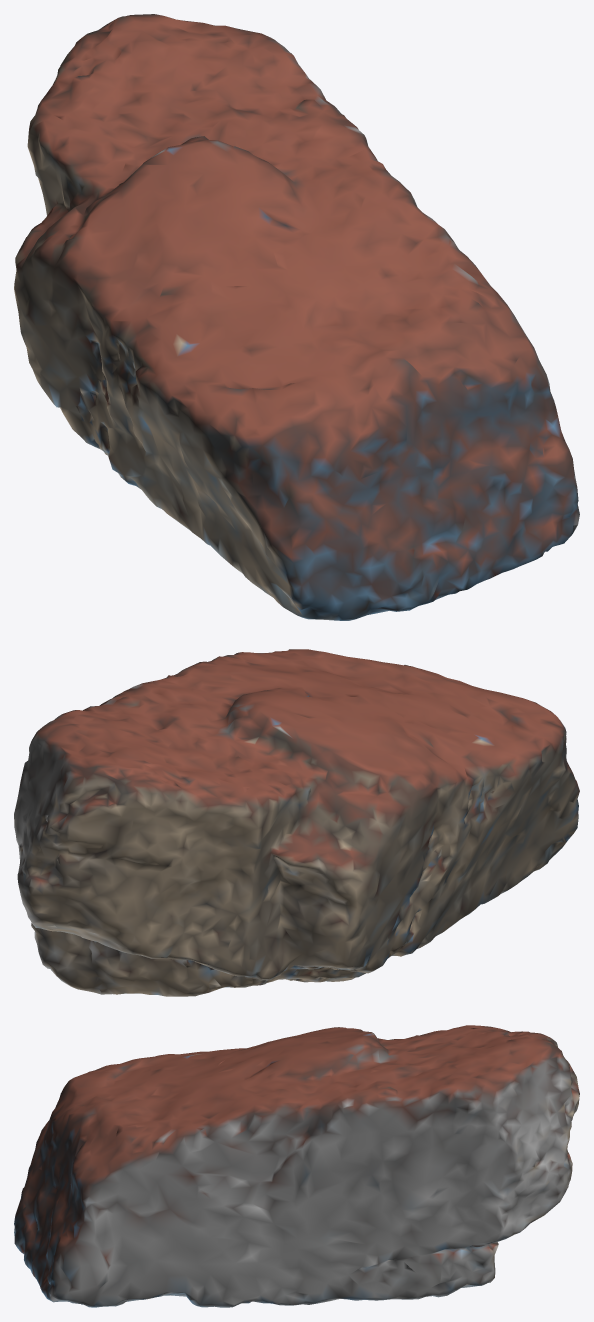
The model's file is rock_07_4k.gltf.
3 renders of one model, top to bottom at view 1: azimuth 30°, elevation 25°; view 2: azimuth 150°, elevation 25°; view 3: azimuth 270°, elevation 25°, orthographic. The views are drawn at different scales.
Visible parts, largest first — view 1: rock_07; view 2: rock_07; view 3: rock_07.
Boxes of the visible parts, left/top/right/bottom form: rock_07: left=14, top=14, right=579, bottom=620; rock_07: left=14, top=649, right=579, bottom=996; rock_07: left=14, top=1025, right=579, bottom=1307.
Bounding box in the file's own units: 0.1689 × 0.1437 × 0.3203.
